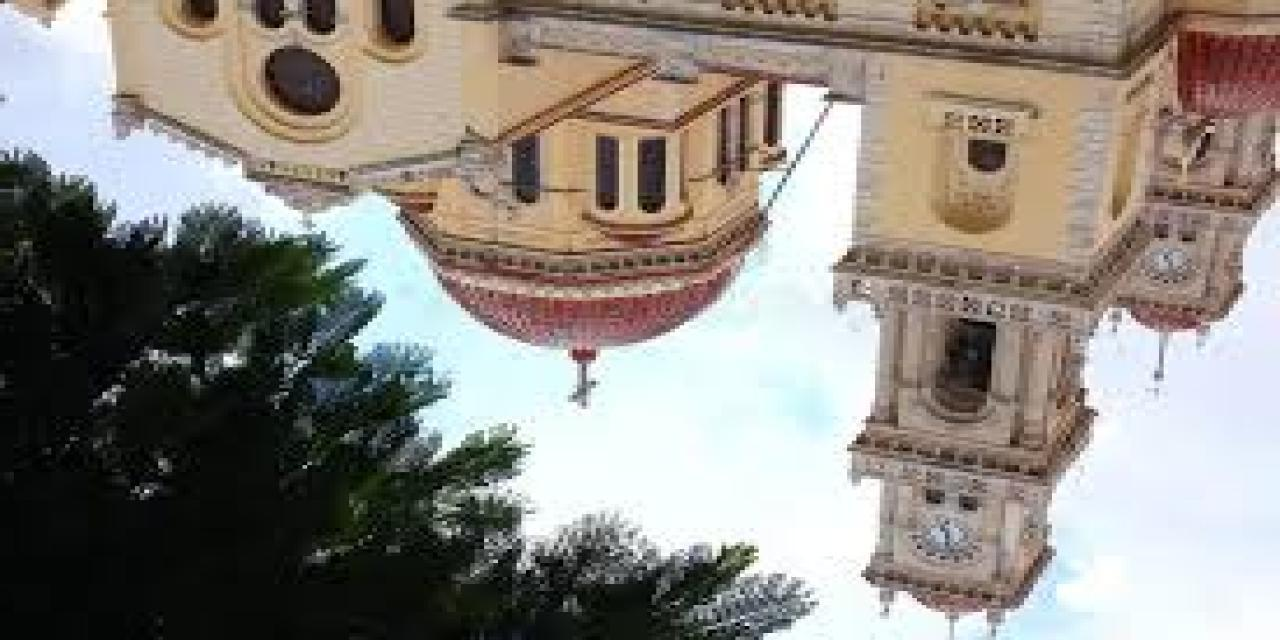Agios Minas: (112, 1, 1279, 640)
